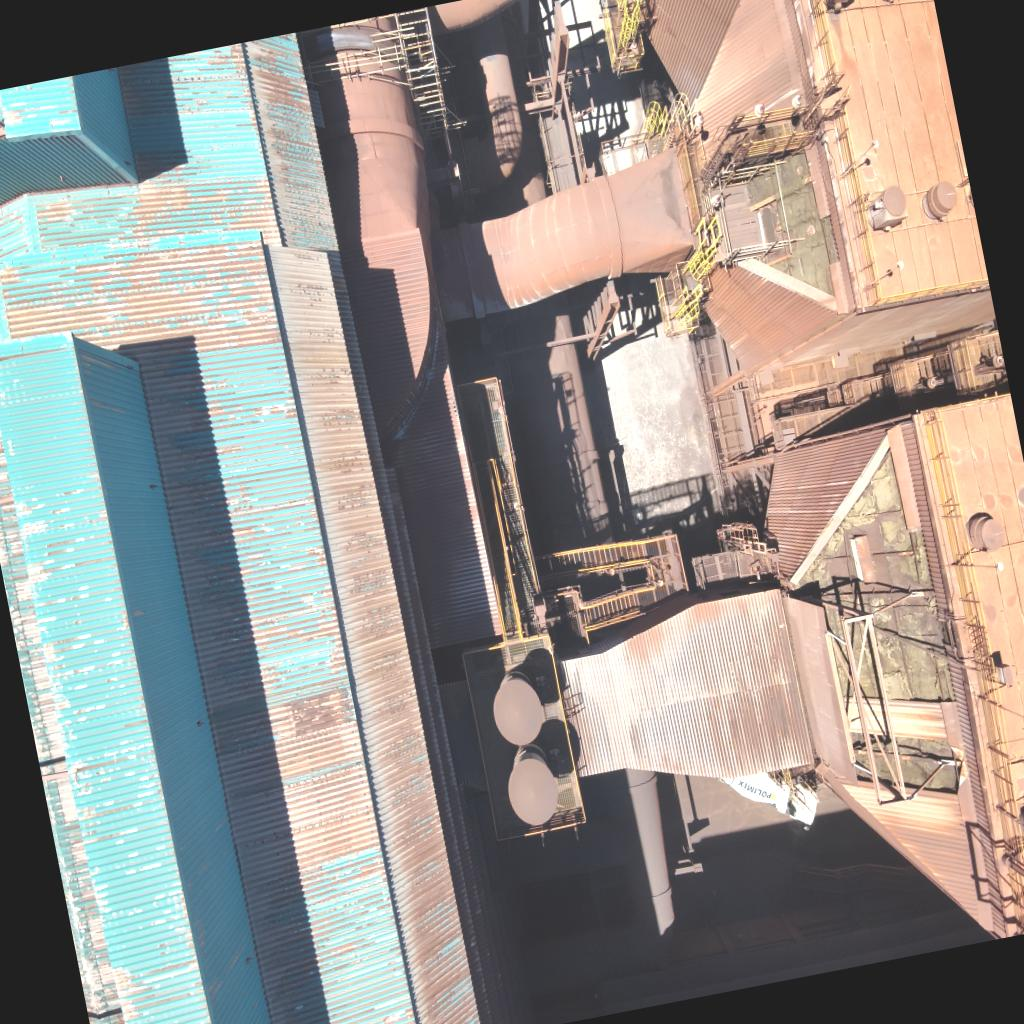Failures: (774, 437, 972, 819), (733, 149, 850, 314)
